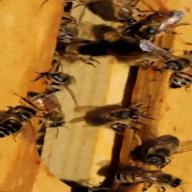Bee: (111, 1, 192, 40), (108, 164, 184, 186), (0, 103, 37, 142), (25, 69, 82, 94), (139, 131, 181, 163), (155, 56, 192, 92)
